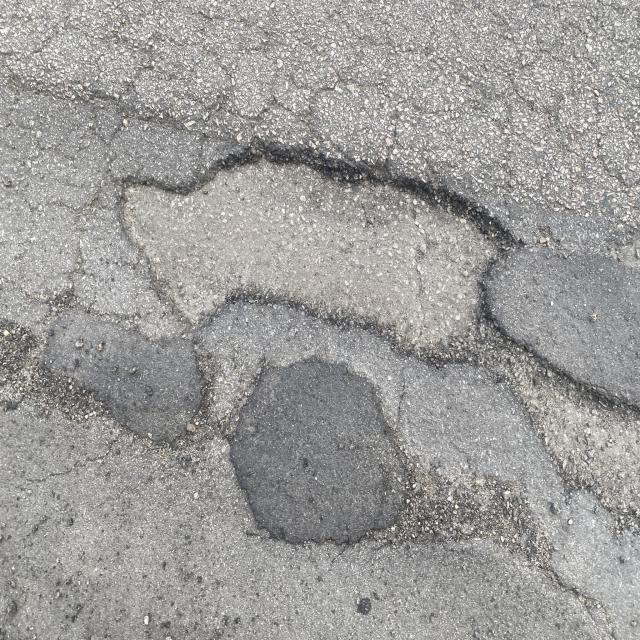Pothole: (79, 92, 538, 390)
